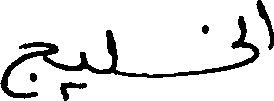X: (0, 37, 57, 100), (230, 0, 256, 74), (258, 0, 273, 61), (106, 25, 116, 79), (80, 47, 87, 93)
